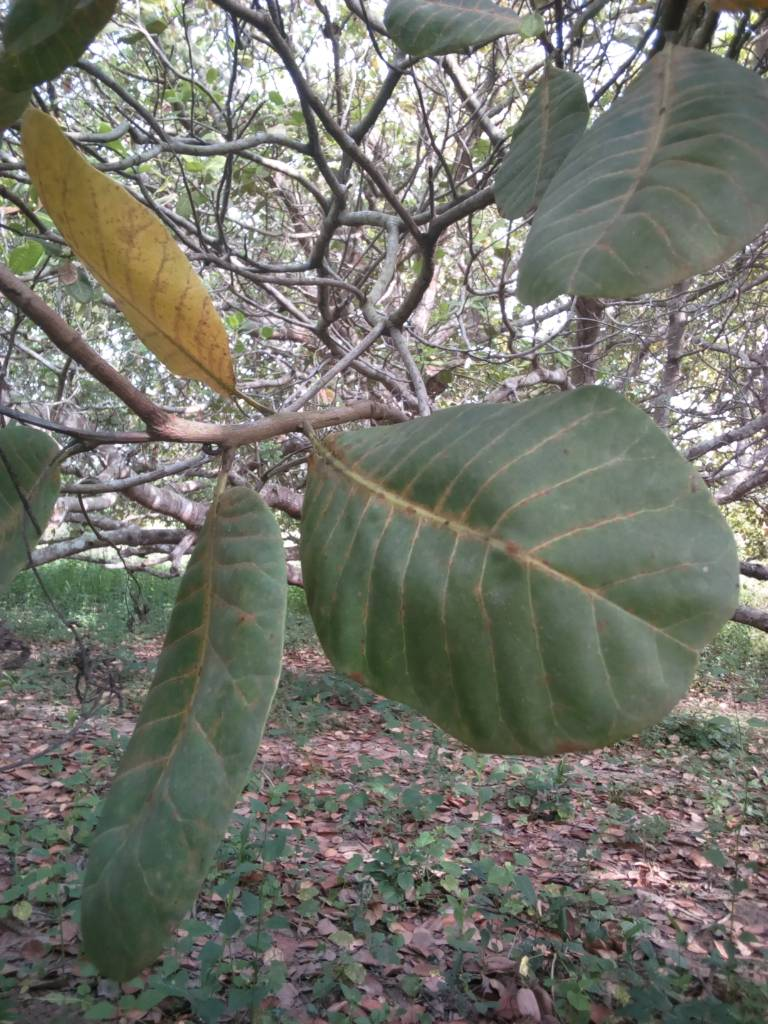Alternariose: (307, 389, 721, 757), (119, 472, 282, 976), (22, 108, 260, 410)
